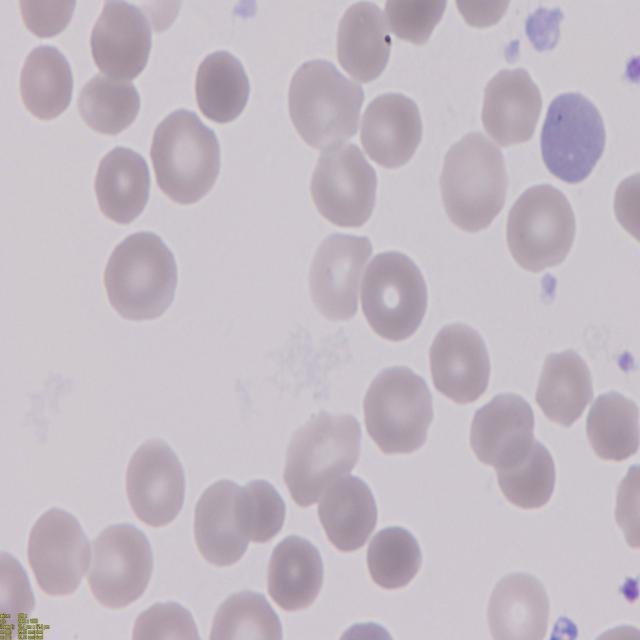Platelets: (549, 616, 578, 640)
RBC: (282, 407, 364, 505), (100, 226, 181, 324), (148, 109, 221, 211), (436, 132, 508, 235), (362, 364, 440, 459), (286, 57, 364, 152), (356, 245, 431, 342), (188, 477, 272, 561), (505, 182, 581, 274), (85, 517, 158, 611), (23, 504, 94, 598), (308, 137, 378, 231), (305, 227, 371, 326), (121, 440, 190, 530), (429, 319, 497, 409), (491, 432, 563, 516), (471, 385, 541, 470), (357, 85, 425, 168), (262, 530, 327, 616), (316, 466, 381, 552), (482, 61, 546, 147), (92, 142, 154, 228), (89, 0, 154, 82), (331, 0, 394, 83), (483, 567, 554, 640), (18, 42, 78, 126), (534, 346, 594, 428), (78, 70, 142, 140), (584, 384, 640, 460), (208, 586, 286, 640), (128, 598, 206, 640), (103, 0, 185, 39), (383, 0, 449, 46), (0, 544, 39, 621), (14, 0, 77, 43), (613, 454, 640, 552), (609, 167, 640, 242), (449, 0, 514, 32)
Spherocyte: (192, 42, 254, 124), (364, 520, 426, 590)
WBC: (536, 86, 609, 190)
